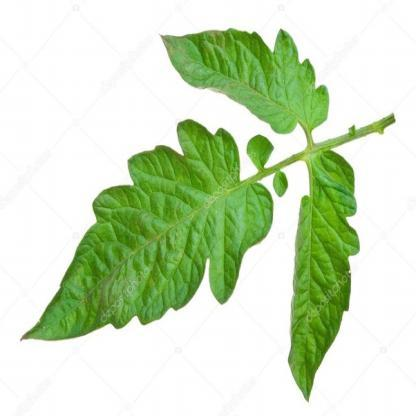Tomato leaf bacterial spot: (20, 116, 279, 362), (280, 140, 359, 416), (159, 29, 334, 142)
